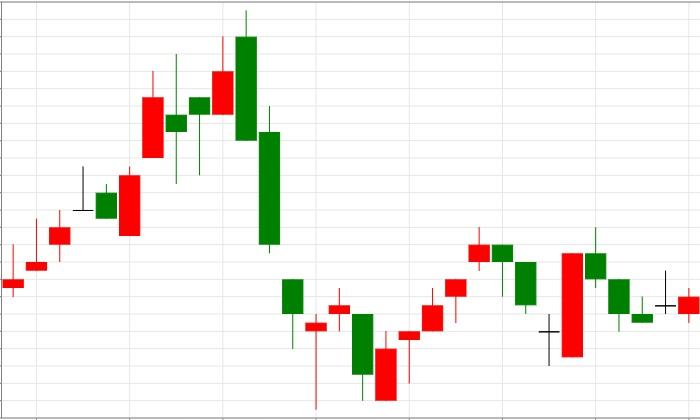bearish_engulfing_fall: (119, 9, 257, 236)
